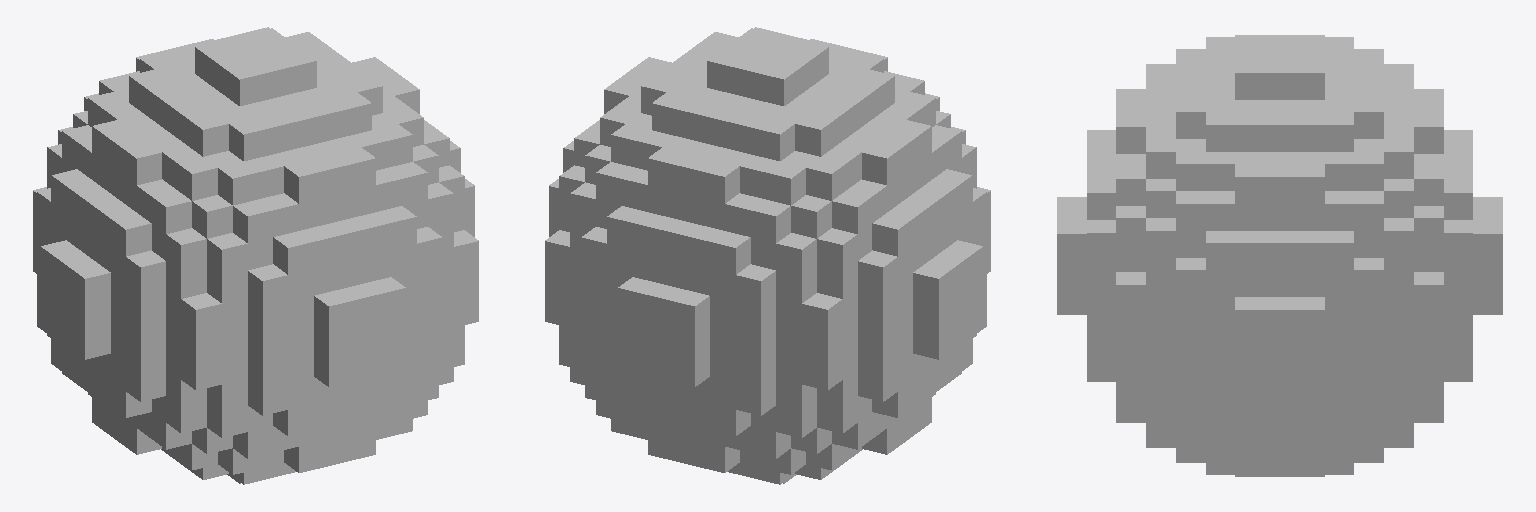
File: laser.obj
3 views of the same model, side by side, from view 1: azimuth 30°, elevation 25°; view 2: azimuth 150°, elevation 25°; view 3: azimuth 270°, elevation 25° (orthographic).
Visible parts, largest first — view 1: Sphere; view 2: Sphere; view 3: Sphere.
Part boxes in pixels (x1,y1,x2,y2): Sphere: (33,27,478,484); Sphere: (545,27,990,484); Sphere: (1057,35,1502,476).
Bounding box in the file's own units: 0.7804 × 0.7804 × 0.7804.